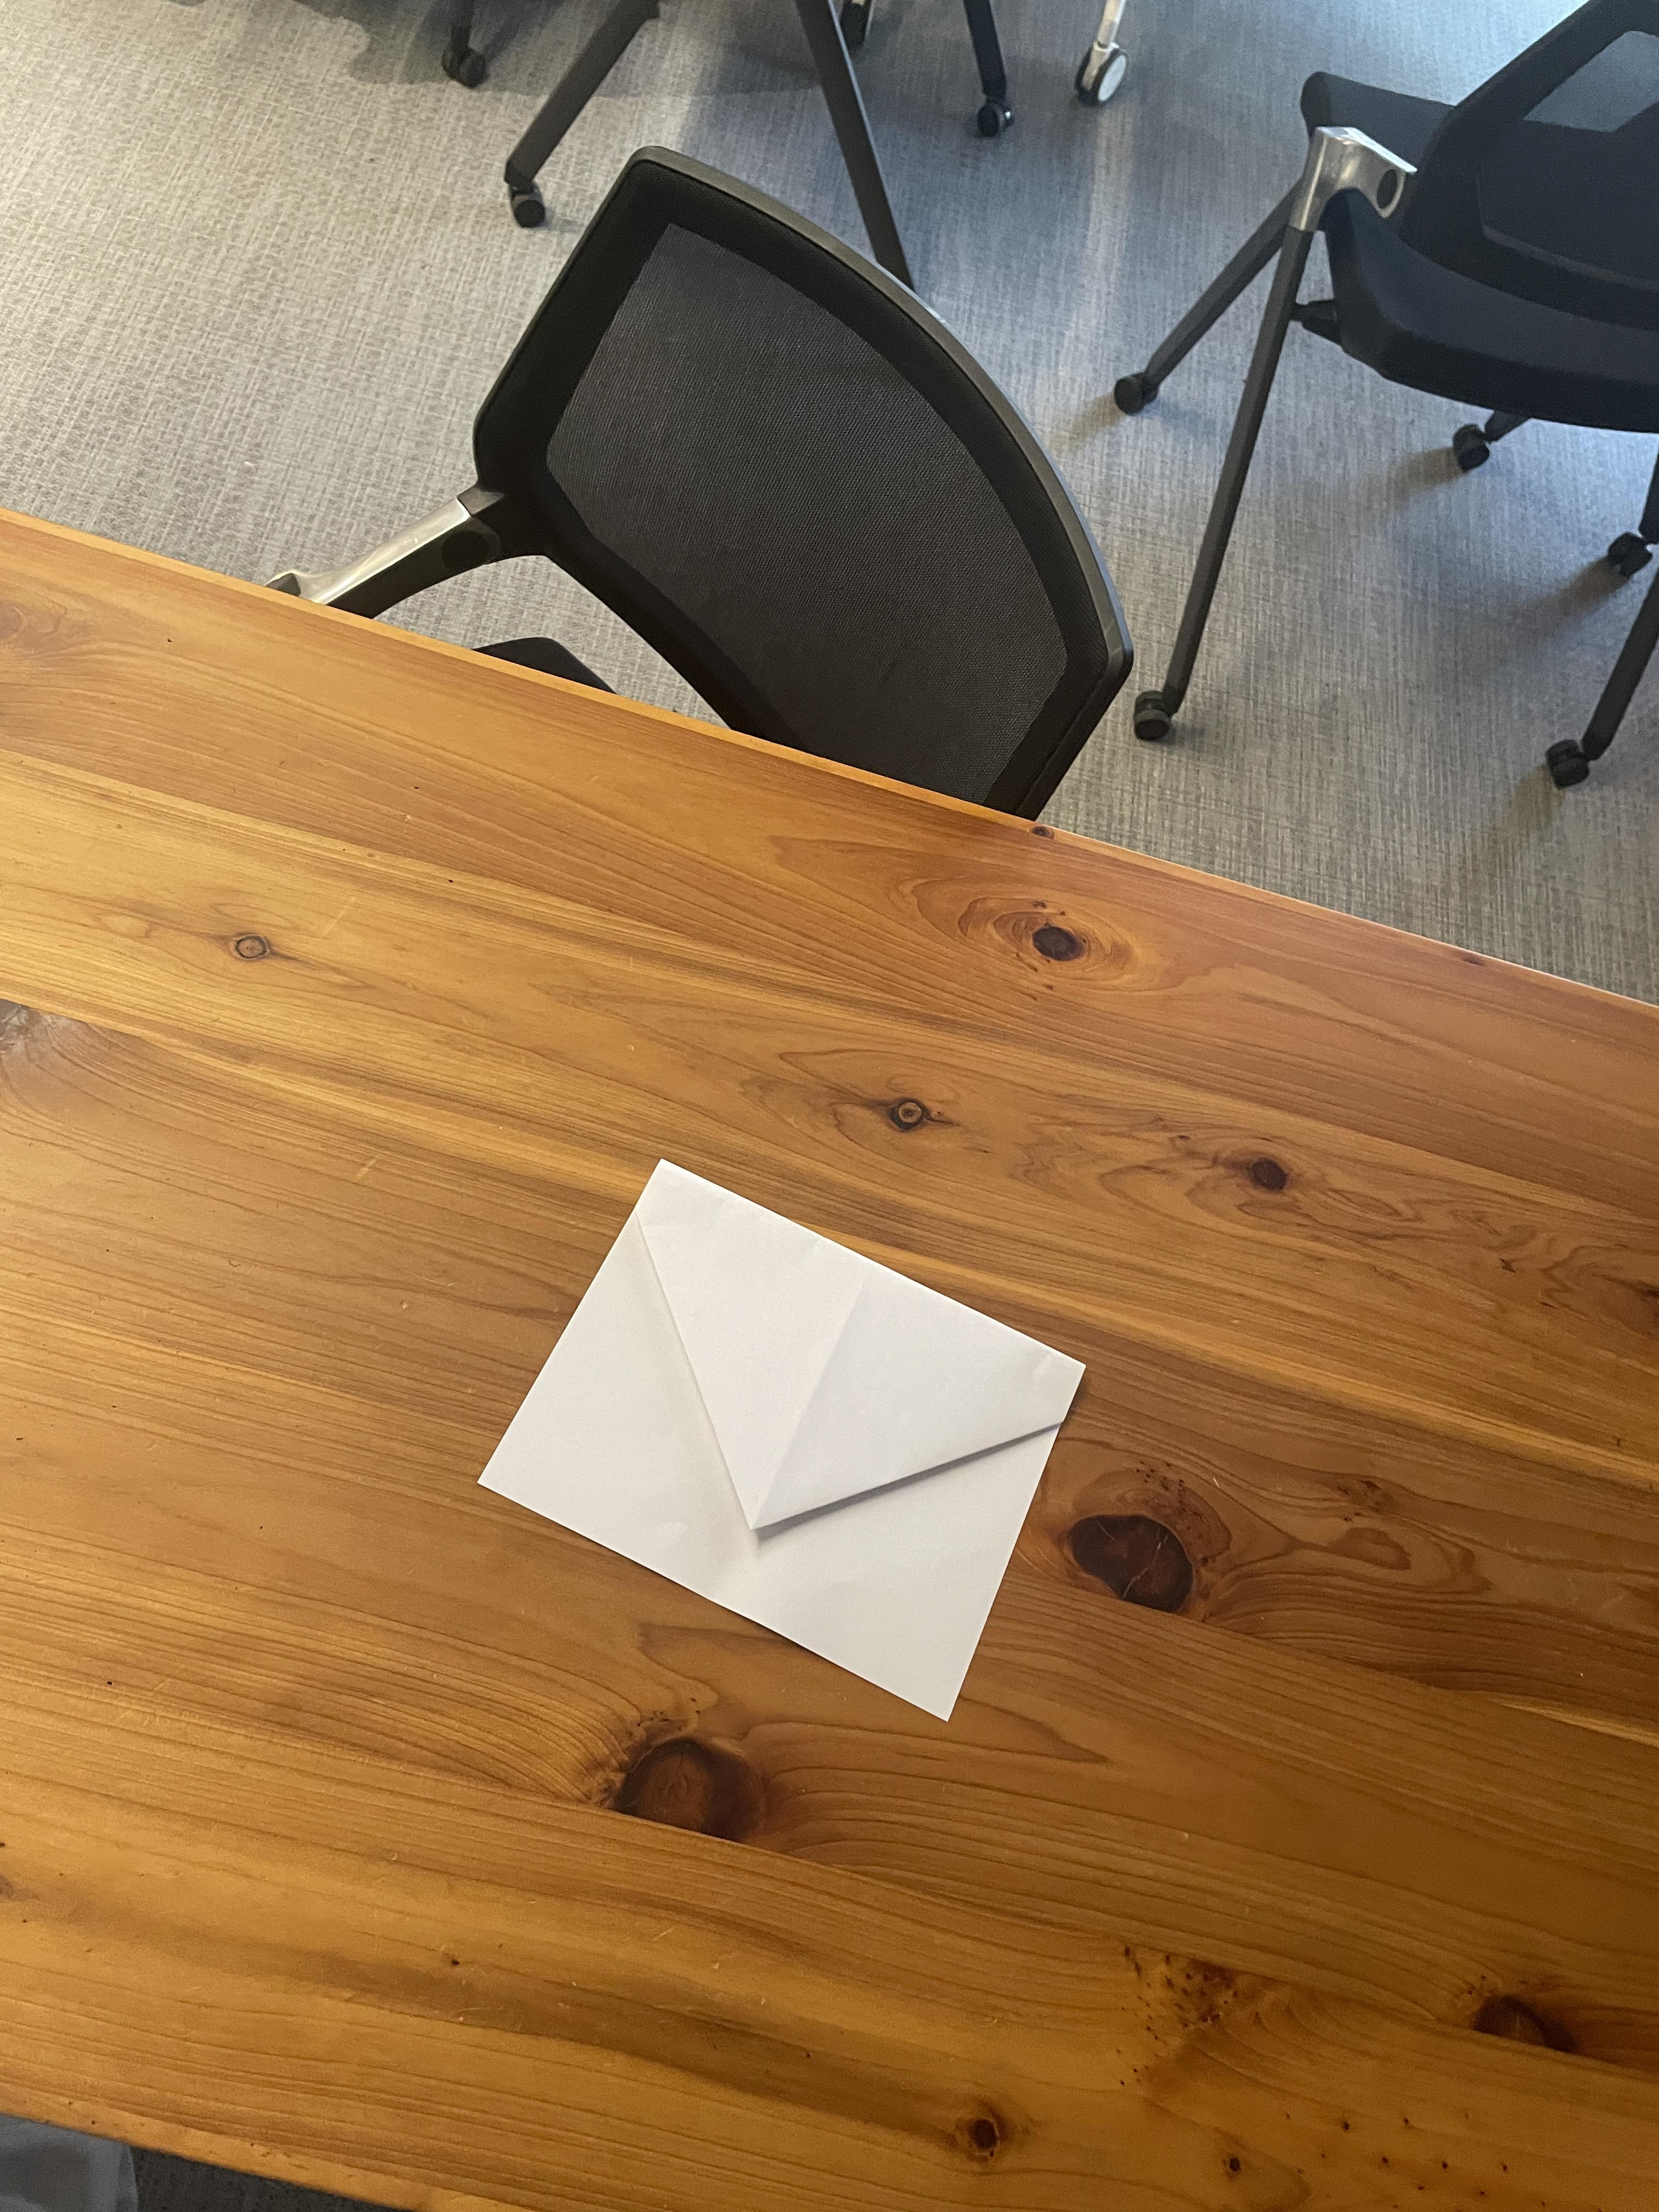shape_1: (357, 1010, 1209, 1959)
